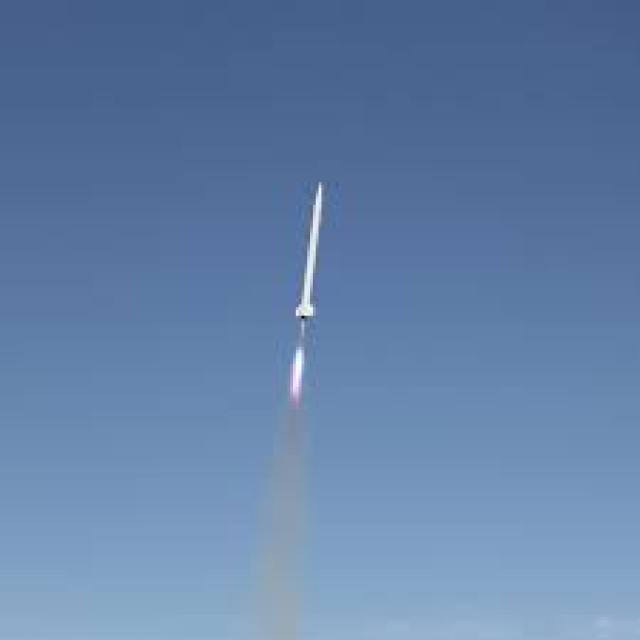Rocket: (293, 173, 326, 327)
